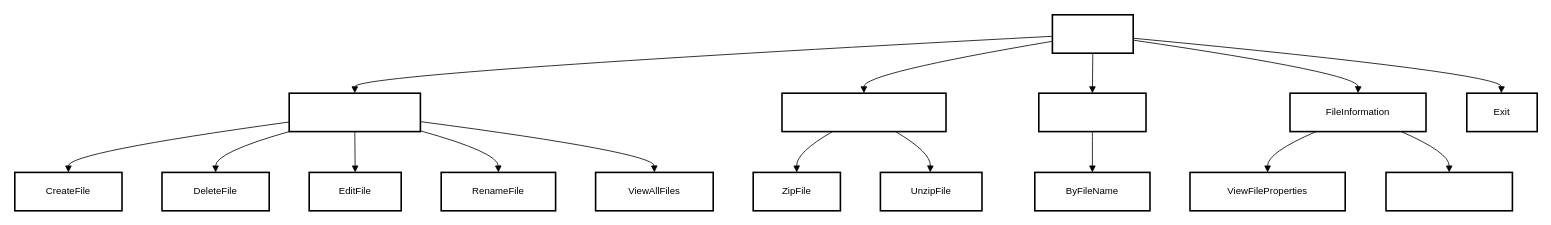
Some shapes in this 1551 by 225 pixel diagram are drawn without their labels. Here are the shapes that lost their labels. From the top down, the box of each, then its label:
(1051, 14, 1134, 54): MENU
(288, 92, 421, 132): FileOperations
(781, 92, 946, 132): CompressionOptions
(1038, 92, 1146, 132): FileSearch
(1385, 171, 1513, 211): CheckFileSize
